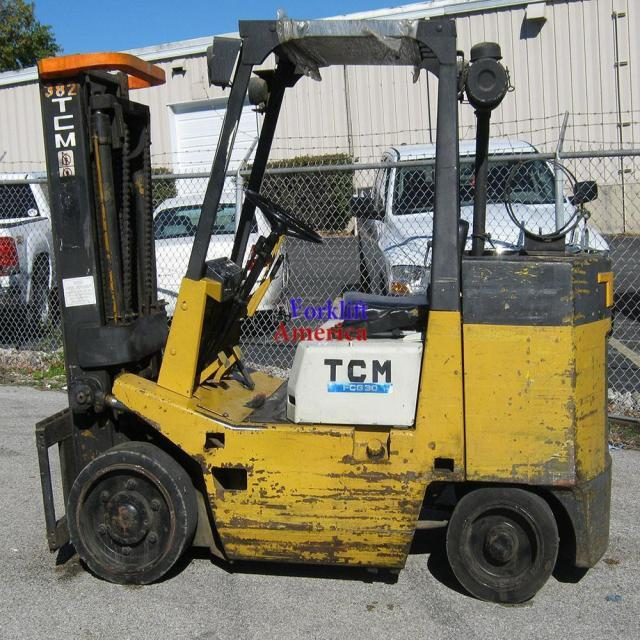forklift: (20, 12, 618, 632)
